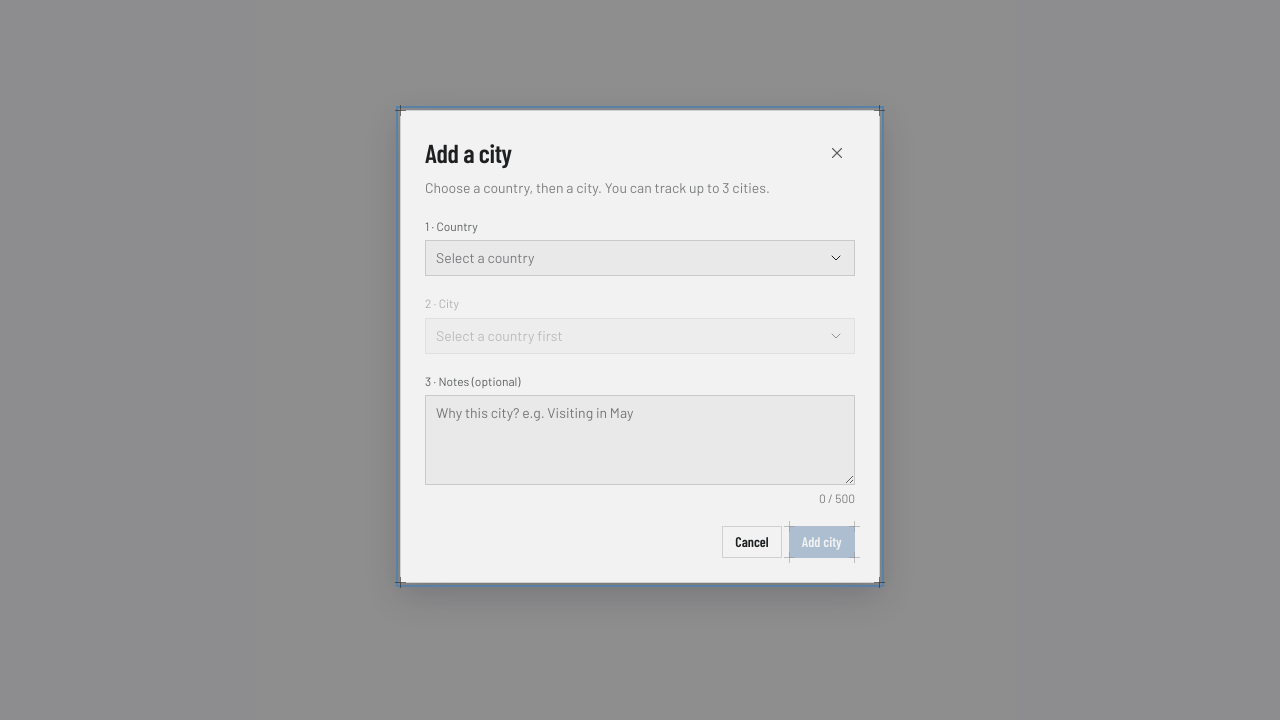
AddCityDialog › keeps the city field disabled until a country is chosen
Check: the button named "2 · City" is disabled, box [425,318,855,354]
Check: the button named "2 · City" reads "Select a country first", box [425,318,855,354]
Click the button named "1 · Country" at (485, 258), box [425,240,855,276]
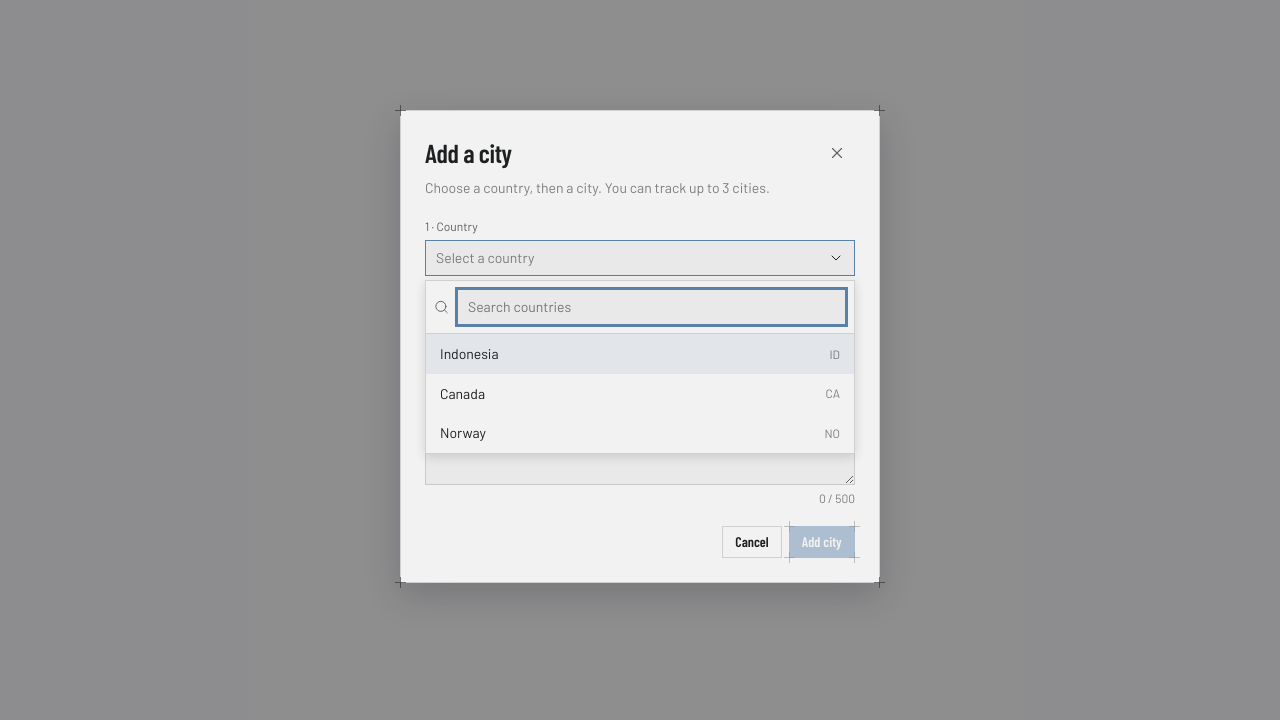
Click the option "Indonesia ID" at (469, 353), box [426,334,854,374]
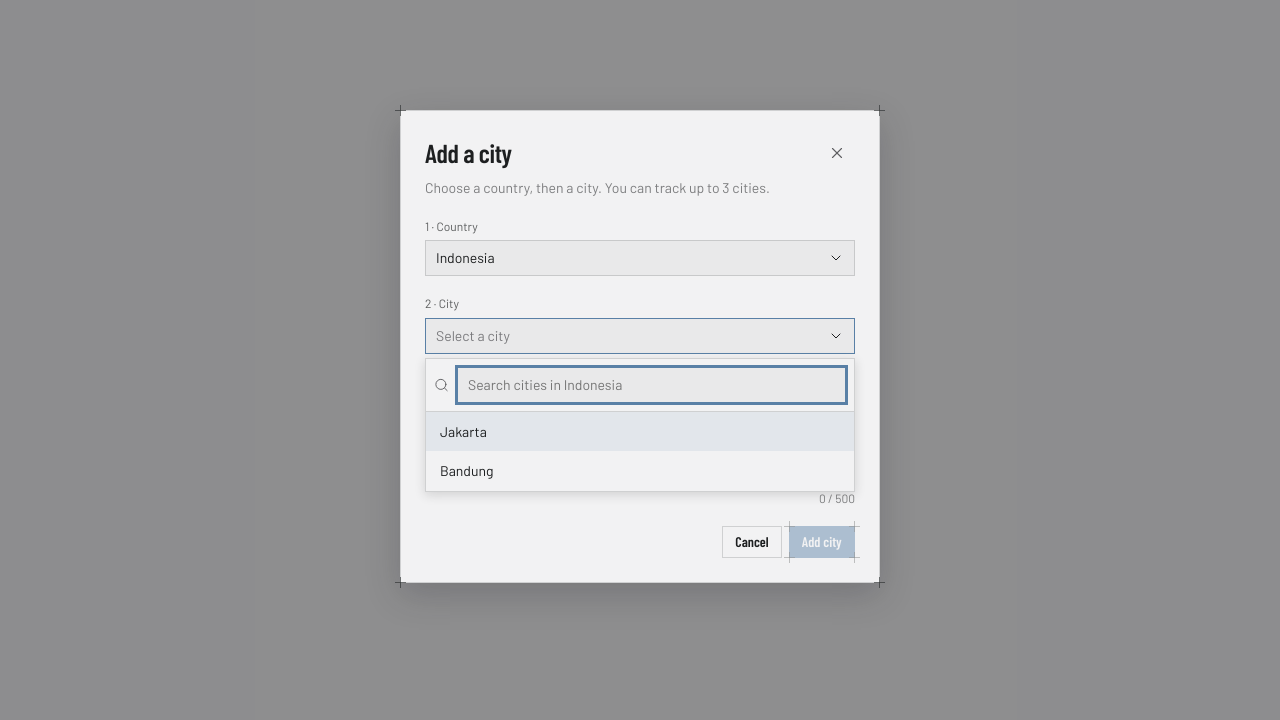
Check: the button named "2 · City" is enabled, box [425,318,855,354]
Check: the option "Jakarta" is shown, box [426,412,854,451]
